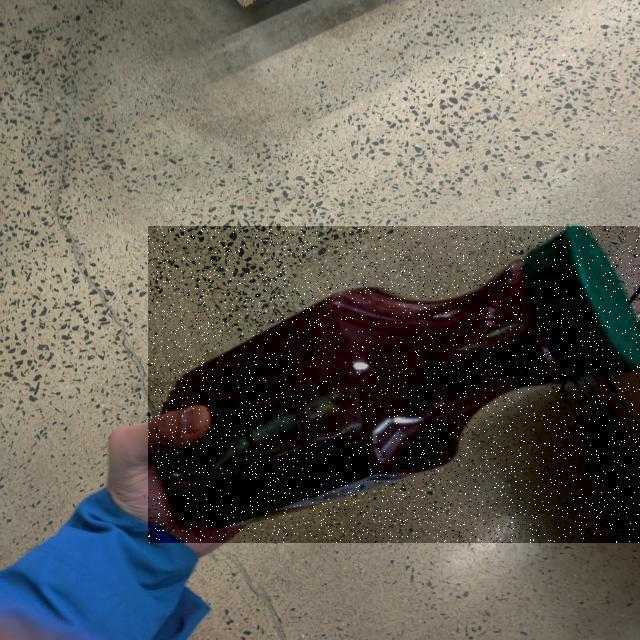Juice: (148, 226, 640, 543)
